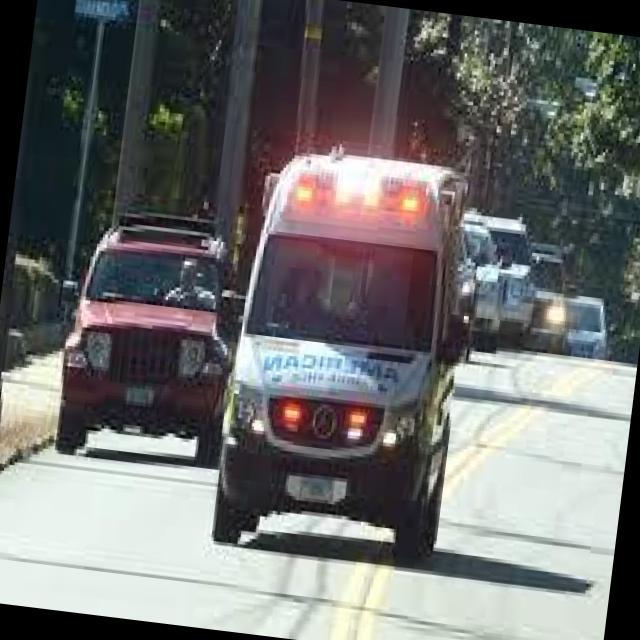ambulance: (199, 150, 502, 584)
